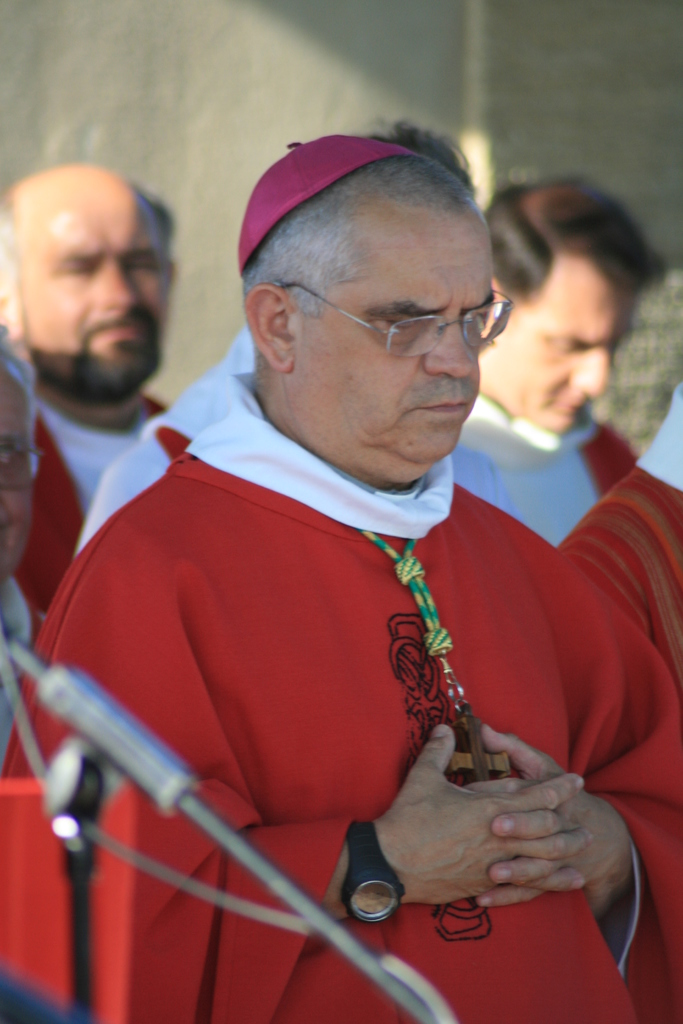face: (500, 248, 617, 444)
